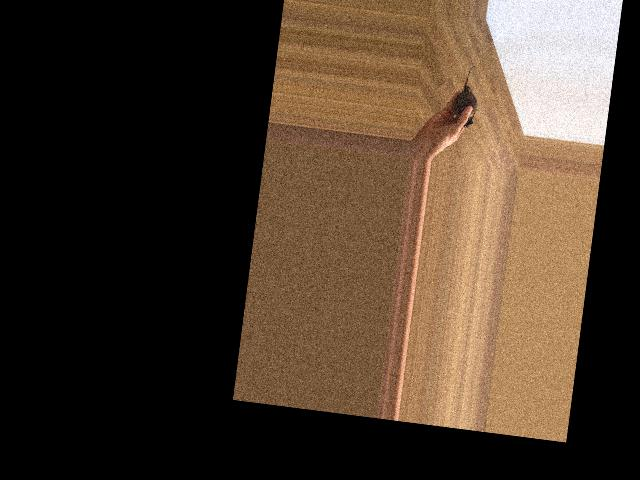beet: (451, 63, 482, 128)
